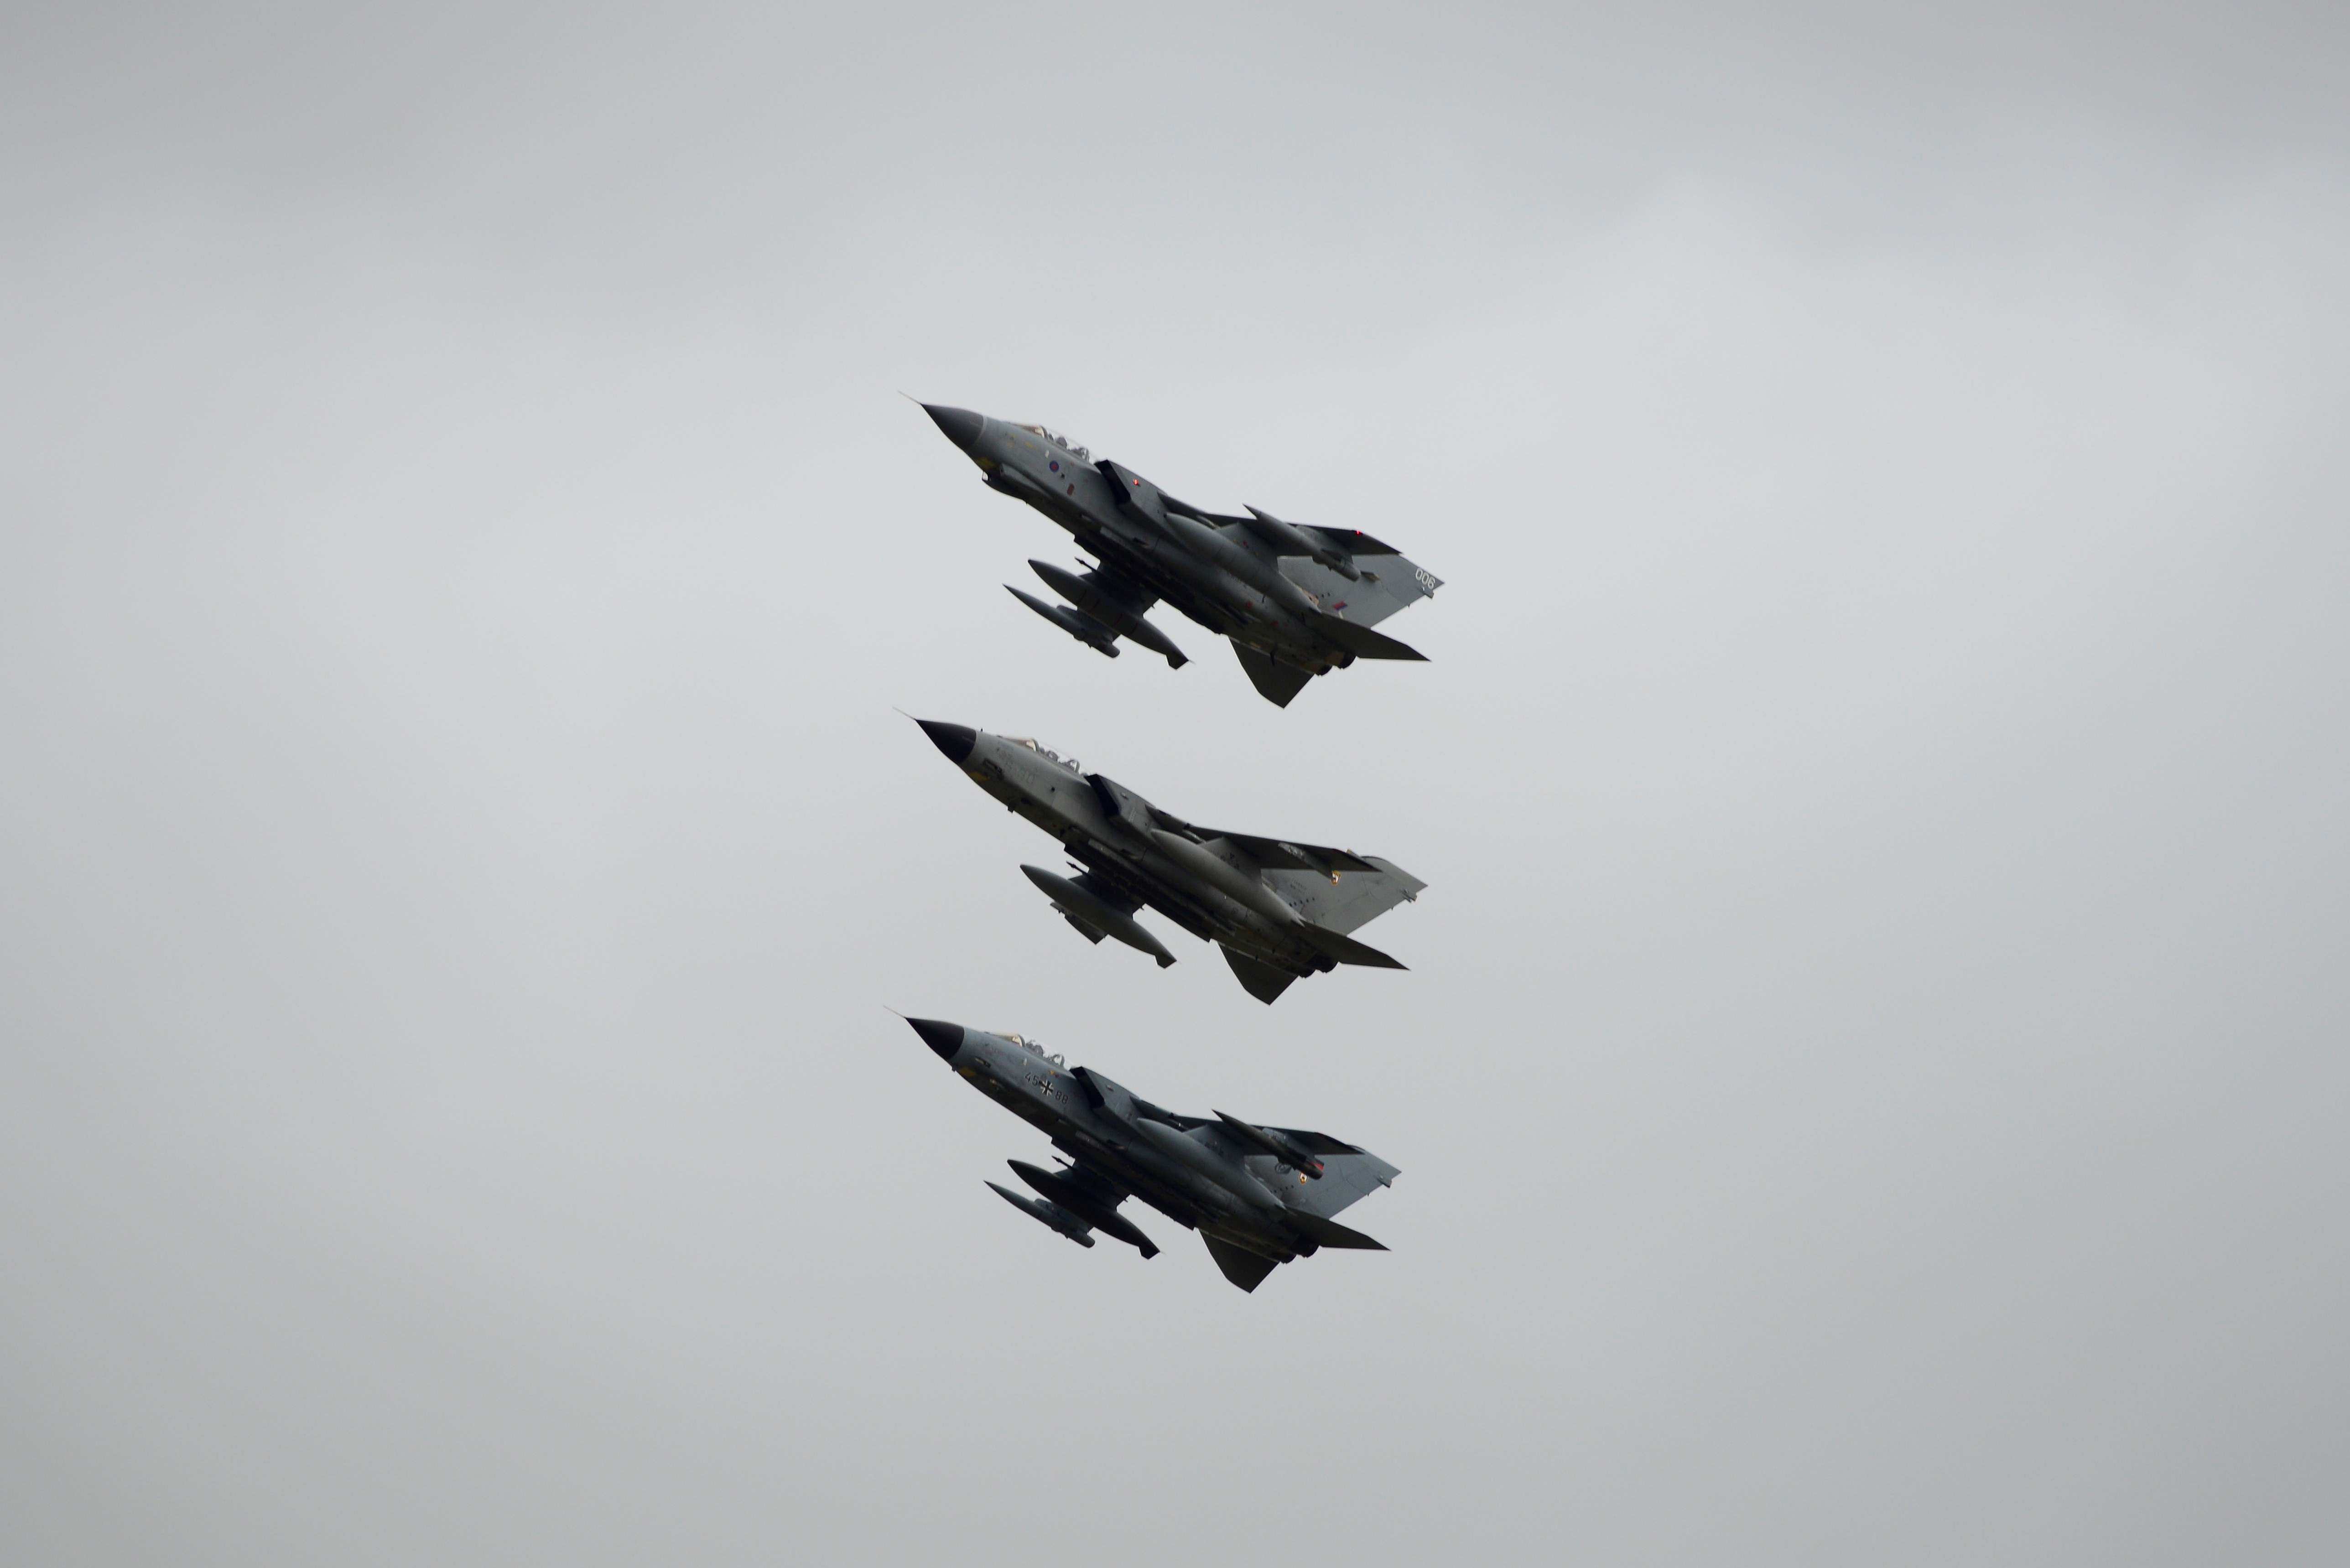Tornado: (896, 388, 1445, 710), (892, 705, 1428, 1006), (882, 1004, 1402, 1295)
